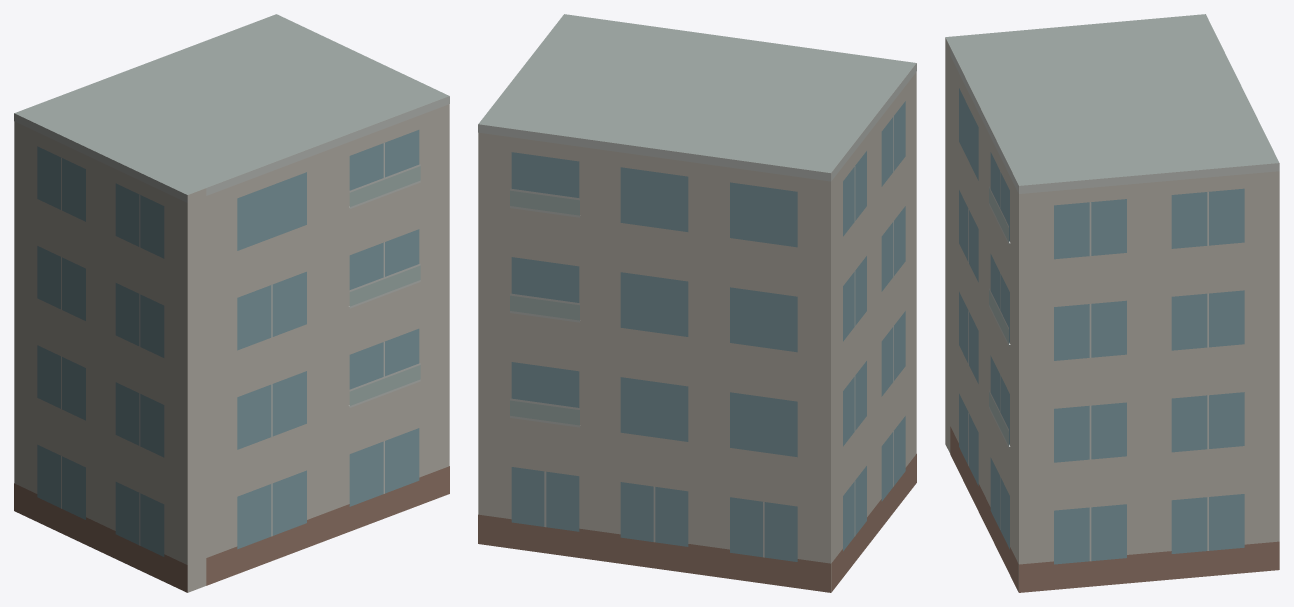
The model's file is residential-68418487-5bbf-4107-a35e-ad9b35344c15.glb.
3 renders of one model, left to right at view 1: azimuth 30°, elevation 25°; view 2: azimuth 150°, elevation 25°; view 3: azimuth 270°, elevation 25°, orthographic. The views are drawn at different scales.
Parts seen in each view (by area): view 1: residential-68418487-5bbf-4107-a35e-ad9b35344c15.tmp; view 2: residential-68418487-5bbf-4107-a35e-ad9b35344c15.tmp; view 3: residential-68418487-5bbf-4107-a35e-ad9b35344c15.tmp.
Boxes of the visible parts, bbox=[...] form: residential-68418487-5bbf-4107-a35e-ad9b35344c15.tmp: bbox=[14, 14, 449, 592]; residential-68418487-5bbf-4107-a35e-ad9b35344c15.tmp: bbox=[478, 14, 916, 592]; residential-68418487-5bbf-4107-a35e-ad9b35344c15.tmp: bbox=[945, 14, 1279, 592].
Size of the model in its own units: 11.06 by 12.2 by 9.09.
